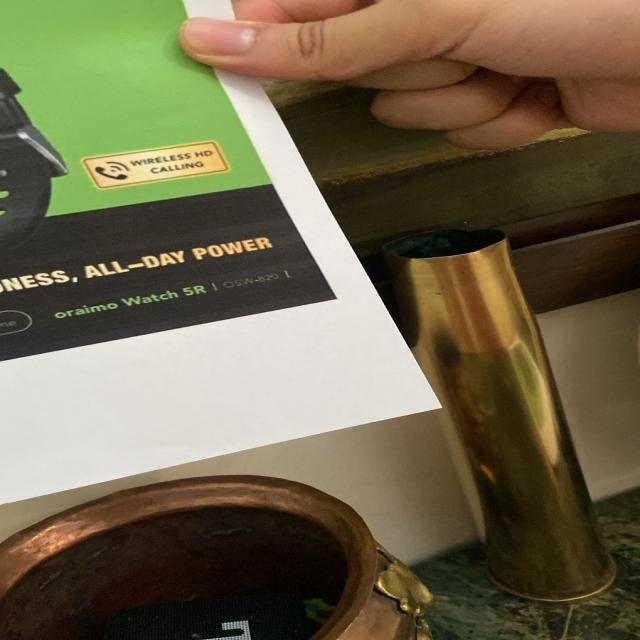Oraimo Watch 5R OSW-820: (48, 262, 305, 323)
